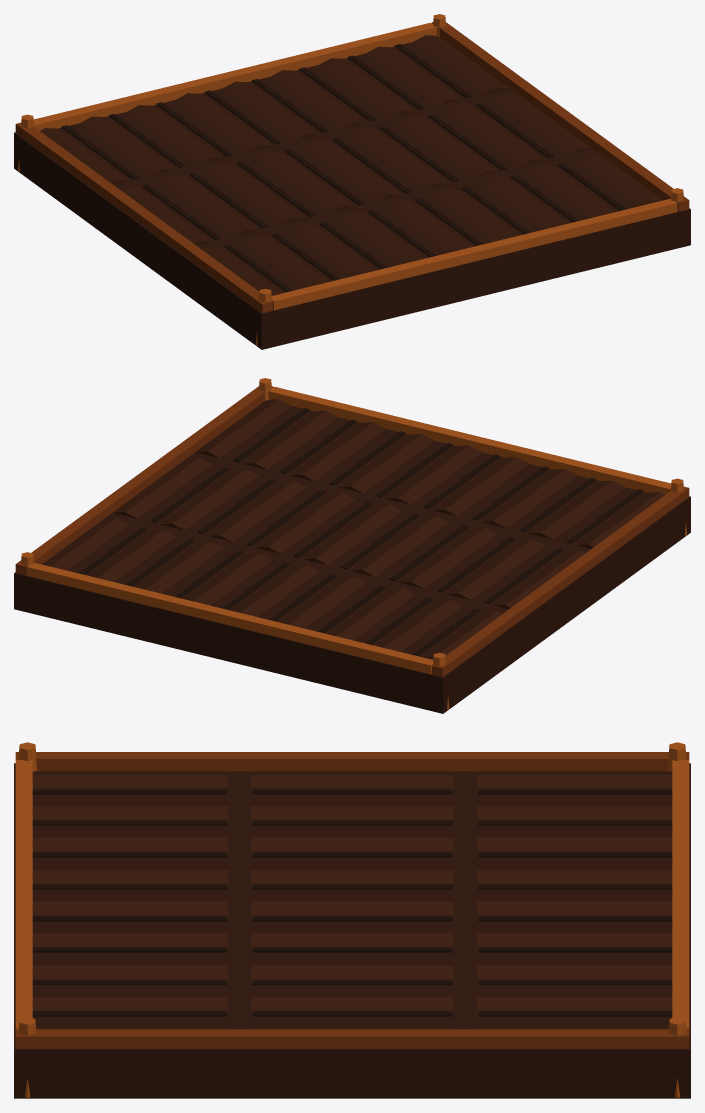
The model's file is farm-cell-bed.obj.
The picture shows the model from 3 angles, top to bottom: view 1: azimuth 30°, elevation 25°; view 2: azimuth 150°, elevation 25°; view 3: azimuth 270°, elevation 25°; orthographic projection. The views are drawn at different scales.
Visible parts, largest first — view 1: farm-cell-bed; view 2: farm-cell-bed; view 3: farm-cell-bed.
Part boxes in pixels (box(x1,y1,x2,y2)): farm-cell-bed: box(14, 14, 690, 349); farm-cell-bed: box(14, 378, 690, 713); farm-cell-bed: box(14, 742, 690, 1098).
Bounding box in the file's own units: 2.01 × 0.235 × 2.
Materials: 1 (1 with a texture image).
